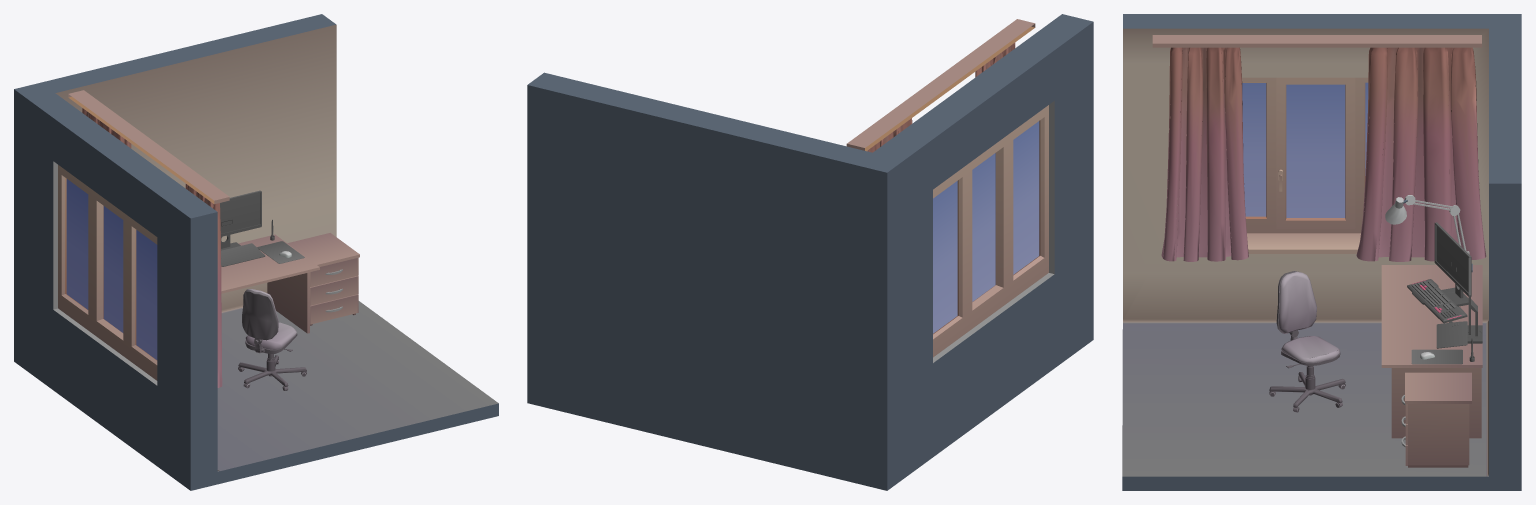
File: RoomUpdate.glb
3 renders of one model, left to right at view 1: azimuth 30°, elevation 25°; view 2: azimuth 150°, elevation 25°; view 3: azimuth 270°, elevation 25°, orthographic. The views are drawn at different scales.
Parts seen in each view (by area): view 1: body1, window4, window, table, cabin, railing, chair_body, monitor3, _________6_blinn1_0, pillows, tablet, kovrik; view 2: body1, window4, window, railing; view 3: body1, _________6_blinn1_0, window4, window, table, cabin, railing, pillows, monitor2, chair_body, keyboard, lamp_white (+3 smaller).
Boxes of the visible parts, x1,y1,x2,y2 form: body1: (14,14,498,490); window4: (66,179,157,359); window: (58,165,157,380); table: (221,234,319,333); cabin: (287,233,359,325); railing: (68,90,229,204); chair_body: (238,290,306,390); monitor3: (220,190,261,250); _________6_blinn1_0: (82,108,222,387); pillows: (245,289,296,349); tablet: (221,243,265,266); kovrik: (257,241,304,263); body1: (527,14,1093,490); window4: (933,121,1039,333); window: (933,105,1048,357); railing: (846,19,1035,151); body1: (1122,14,1521,490); _________6_blinn1_0: (1161,47,1486,261); window4: (1242,82,1368,217); window: (1242,77,1368,253); table: (1381,265,1482,438); cabin: (1405,372,1471,467); railing: (1152,35,1481,47); pillows: (1278,271,1339,362); monitor2: (1434,222,1471,306); chair_body: (1269,271,1345,412); keyboard: (1407,279,1467,323); lamp_white: (1385,195,1469,254).
Bounding box in the file's own units: 6.68 × 5.65 × 6.65.
